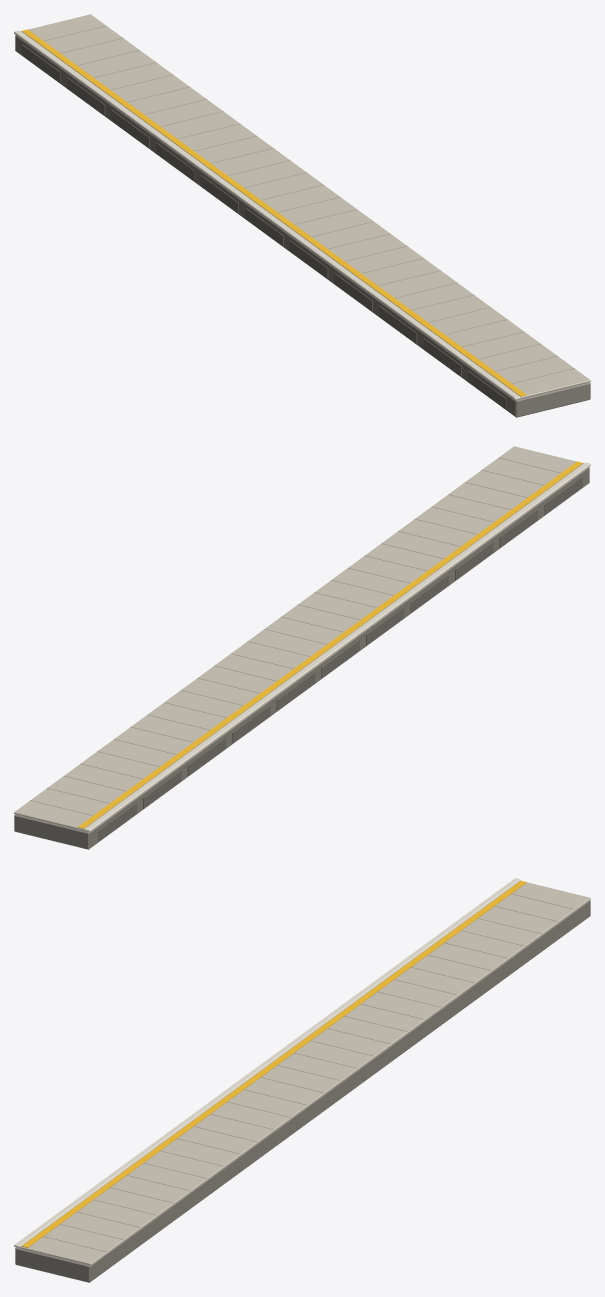
Rendered from platform.glb.
3 renders of one model, top to bottom at view 1: azimuth 30°, elevation 25°; view 2: azimuth 150°, elevation 25°; view 3: azimuth 330°, elevation 25°, orthographic.
Parts seen in each view (by area): view 1: platform; view 2: platform; view 3: platform.
Part boxes in pixels (x1,y1,x2,y2): platform: (14,14,590,417); platform: (14,446,590,849); platform: (14,878,590,1282).
Size of the model in its own units: 4 by 1 by 45.
